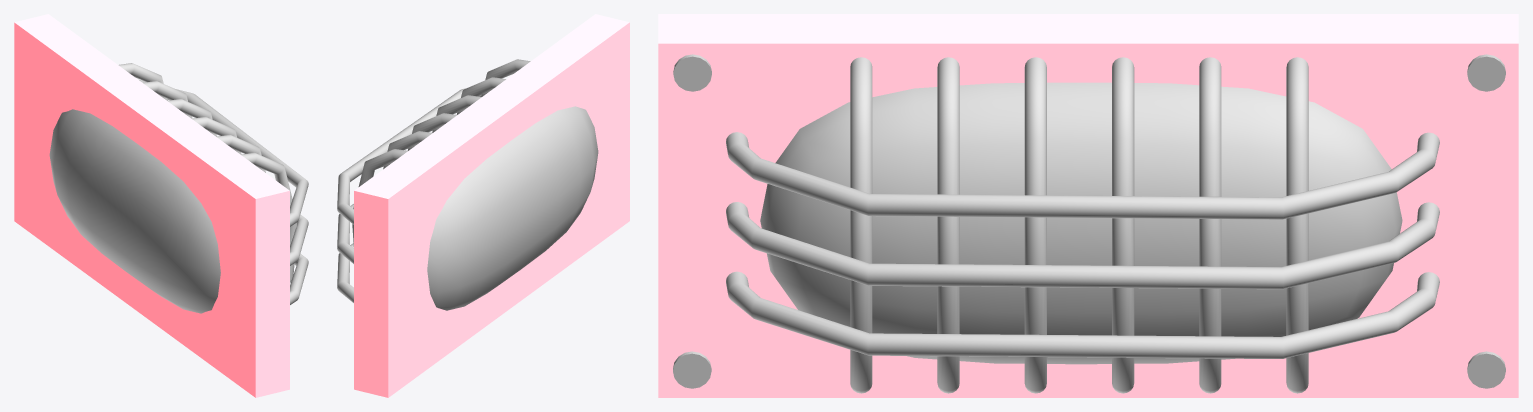
The model's file is light.fbx.
3 renders of one model, left to right at view 1: azimuth 30°, elevation 25°; view 2: azimuth 150°, elevation 25°; view 3: azimuth 270°, elevation 25°, orthographic. The views are drawn at different scales.
Parts seen in each view (by area): view 1: Cube.456, Cube.457, Cylinder.030, Cylinder.031; view 2: Cube.456, Cube.457, Cylinder.030, Cylinder.031; view 3: Cube.456, Cube.457, Cylinder.031, Cylinder.030, Cylinder.034, Cylinder.032, Cylinder.033, Cylinder.035.
Part boxes in pixels (bbox=[...]): Cube.456: bbox=[14, 14, 289, 397]; Cube.457: bbox=[49, 109, 220, 313]; Cylinder.030: bbox=[118, 63, 297, 282]; Cylinder.031: bbox=[138, 79, 308, 304]; Cube.456: bbox=[354, 14, 629, 397]; Cube.457: bbox=[427, 106, 598, 310]; Cylinder.030: bbox=[352, 59, 530, 246]; Cylinder.031: bbox=[337, 88, 481, 302]; Cube.456: bbox=[658, 14, 1518, 397]; Cube.457: bbox=[760, 82, 1402, 364]; Cylinder.031: bbox=[726, 132, 1439, 358]; Cylinder.030: bbox=[850, 57, 1308, 393]; Cylinder.034: bbox=[1467, 351, 1505, 388]; Cylinder.032: bbox=[673, 54, 711, 91]; Cylinder.033: bbox=[1467, 54, 1505, 91]; Cylinder.035: bbox=[673, 351, 711, 388].
Size of the model in its own units: 18.57 by 25.03 by 55.09.
